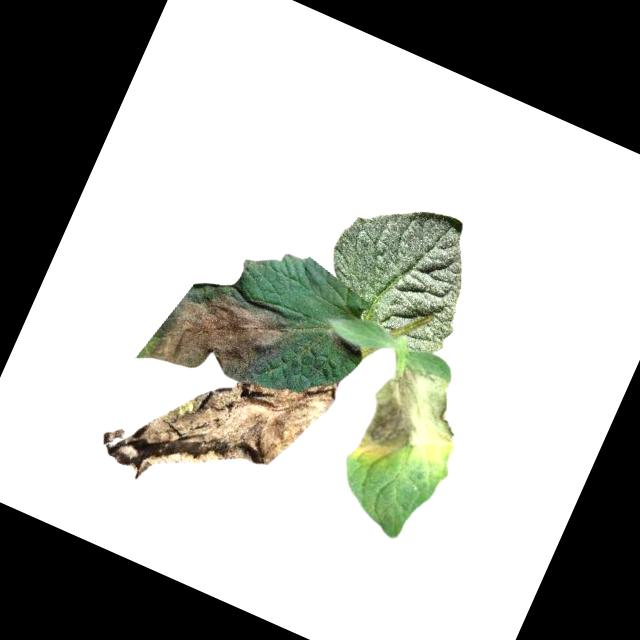Late_blight: (91, 305, 342, 540), (143, 265, 300, 409), (351, 354, 479, 485)
healthy: (310, 179, 496, 362)
